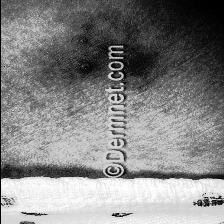Toxin: (70, 25, 108, 72), (126, 40, 147, 74)
